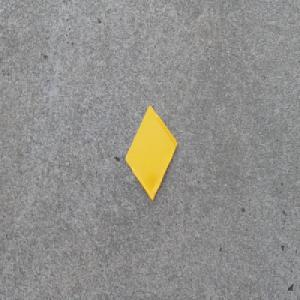PlasticPart: (125, 104, 178, 201)
